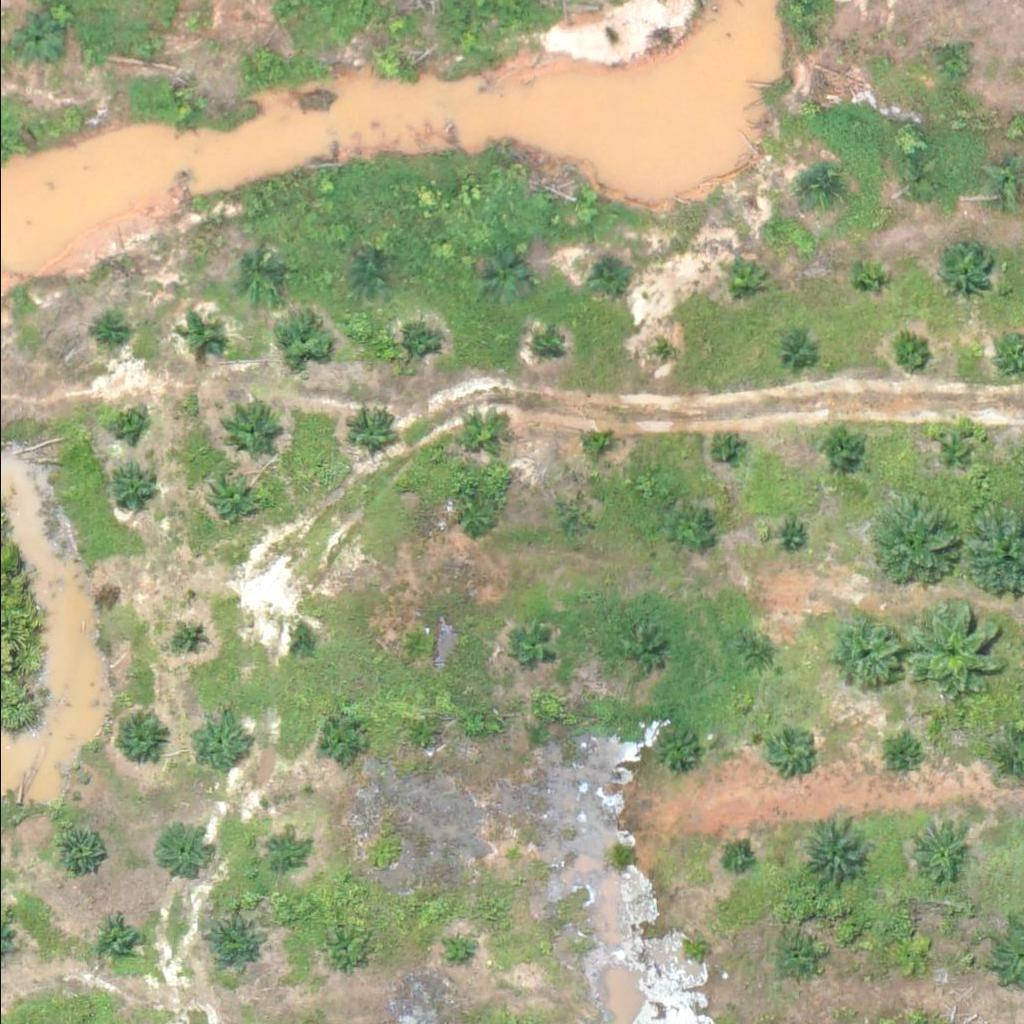Kelapa_Sawit: (908, 602, 1009, 702), (820, 609, 908, 697), (871, 500, 959, 588), (796, 815, 872, 890), (202, 912, 265, 975), (201, 466, 264, 529), (907, 823, 970, 885), (105, 706, 168, 768), (187, 710, 250, 772), (930, 239, 993, 301), (219, 400, 282, 462), (448, 496, 499, 546), (155, 826, 206, 876), (54, 823, 105, 873), (90, 914, 141, 964), (318, 716, 369, 766), (888, 929, 939, 979), (454, 409, 505, 459), (715, 255, 766, 305), (9, 15, 59, 65), (768, 935, 818, 985), (384, 317, 434, 367), (275, 315, 325, 365), (342, 404, 392, 454), (106, 464, 156, 514), (762, 724, 812, 774), (648, 727, 698, 777), (509, 624, 559, 674), (616, 624, 666, 674), (730, 631, 780, 681), (660, 504, 710, 554), (820, 423, 870, 473), (476, 251, 526, 301), (929, 426, 979, 476), (225, 253, 275, 303), (262, 829, 300, 867), (182, 314, 220, 352), (91, 315, 129, 353), (108, 402, 146, 440), (131, 28, 169, 66), (244, 38, 282, 76), (369, 44, 407, 82), (587, 255, 625, 293), (319, 934, 357, 971), (171, 621, 209, 658), (169, 92, 207, 129), (396, 625, 433, 663), (551, 499, 588, 537), (844, 258, 881, 296), (349, 255, 387, 292), (898, 165, 935, 203), (895, 338, 933, 375), (401, 718, 439, 755), (772, 334, 809, 371), (800, 166, 837, 203), (930, 43, 967, 80), (723, 844, 749, 869), (442, 937, 467, 962), (686, 937, 711, 962), (287, 627, 312, 652), (714, 435, 739, 460), (584, 428, 609, 453), (645, 340, 670, 365), (533, 334, 558, 359), (888, 745, 913, 770), (497, 843, 522, 868), (778, 523, 803, 547)
